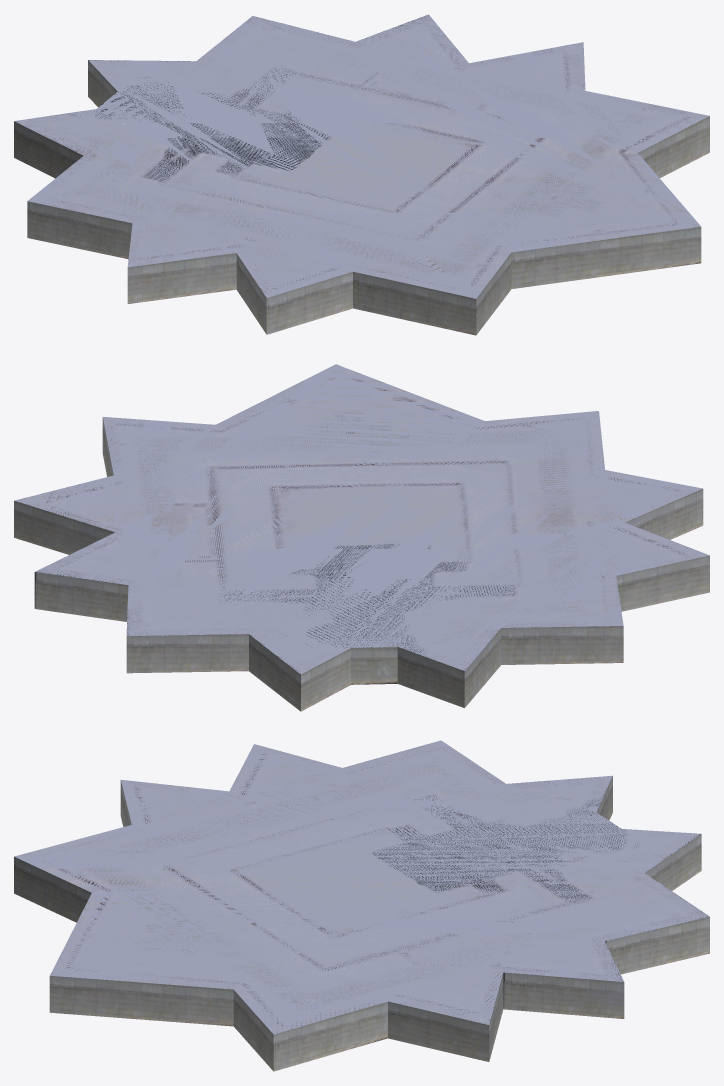
Rendered from Statue_of_Liberty_base - Copy.fbx.
The picture shows the model from 3 angles, top to bottom: view 1: azimuth 30°, elevation 25°; view 2: azimuth 150°, elevation 25°; view 3: azimuth 270°, elevation 25°; orthographic projection.
Parts seen in each view (by area): view 1: Model; view 2: Model; view 3: Model.
Part boxes in pixels (bbox=[...]): Model: bbox=[14, 14, 709, 335]; Model: bbox=[14, 364, 709, 711]; Model: bbox=[14, 740, 709, 1071].
Bounding box in the file's own units: 95046 × 5566 × 94984.
